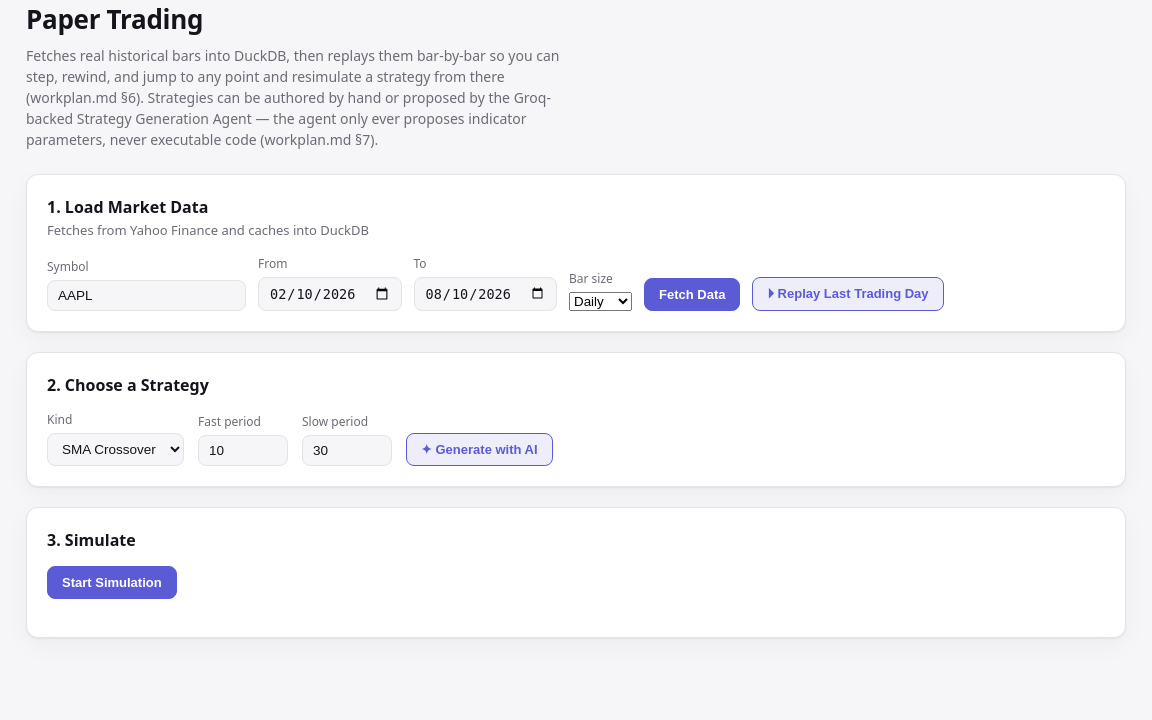
PaperTrading page › performance section › renders P&L, drawdown, and risk-adjusted tiles once there is history
Click the button "Start Simulation". click: (112, 582)
box: [47,566,177,598]
(page scrolled)
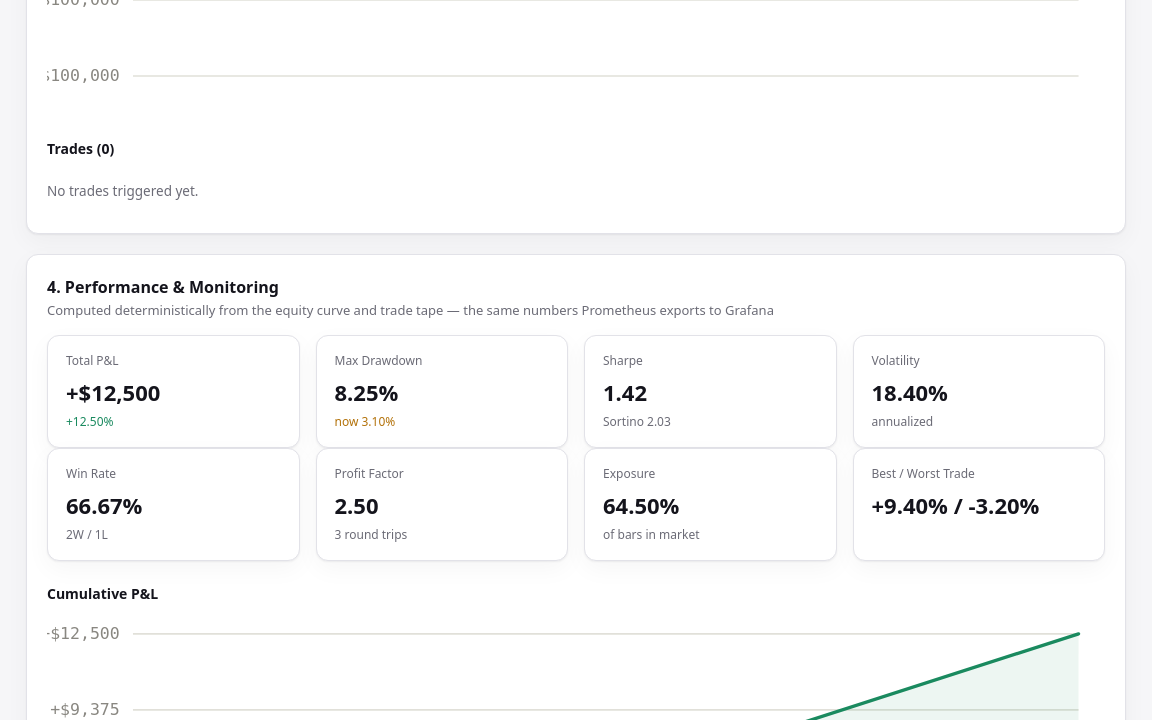
expect the text "Total P&L" is shown: met, box [66,352,119,369]
